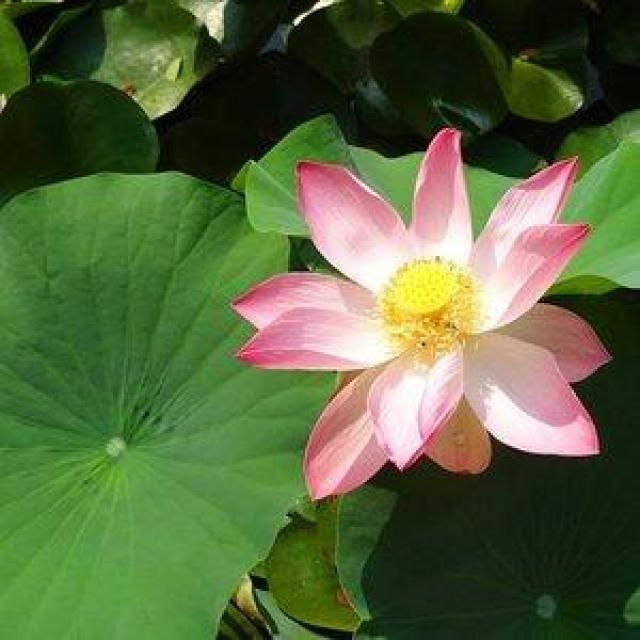organic waste: (224, 116, 625, 483)
